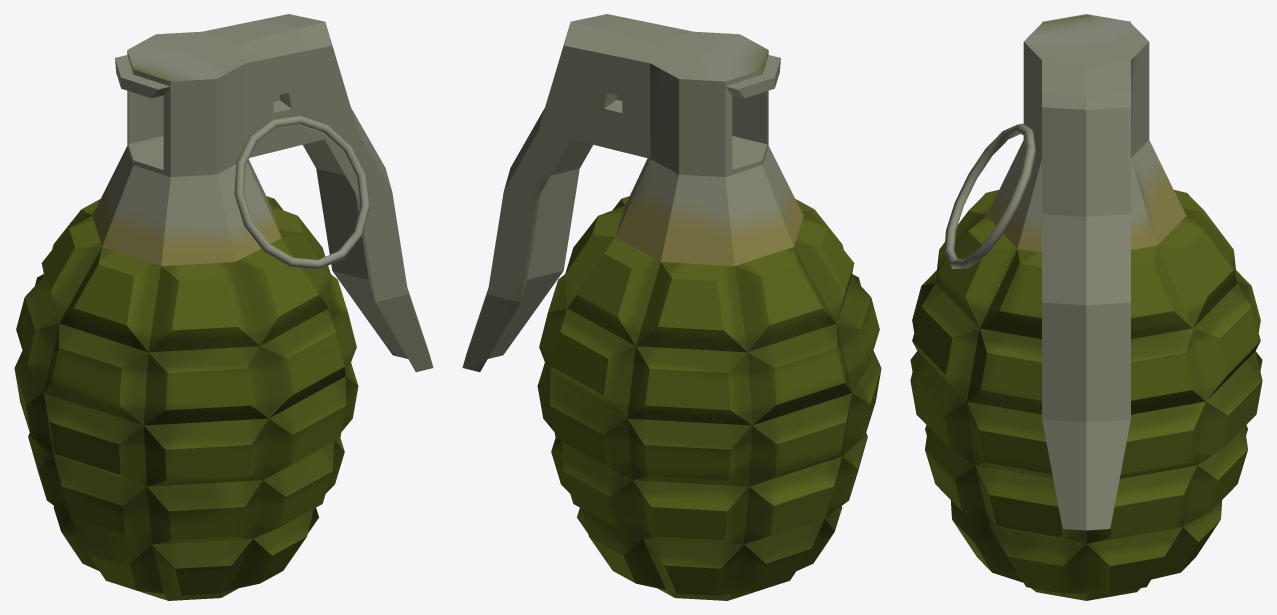
The model's file is grenade001.obj.
3 renders of one model, left to right at view 1: azimuth 30°, elevation 25°; view 2: azimuth 150°, elevation 25°; view 3: azimuth 270°, elevation 25°, orthographic. The views are drawn at different scales.
Parts seen in each view (by area): view 1: Torus; view 2: Torus; view 3: Torus.
Boxes of the visible parts, <box> form: Torus: <box>14,14,433,600</box>; Torus: <box>462,14,881,600</box>; Torus: <box>910,14,1262,600</box>.
Size of the model in its own units: 1.87 by 2.36 by 1.42.
